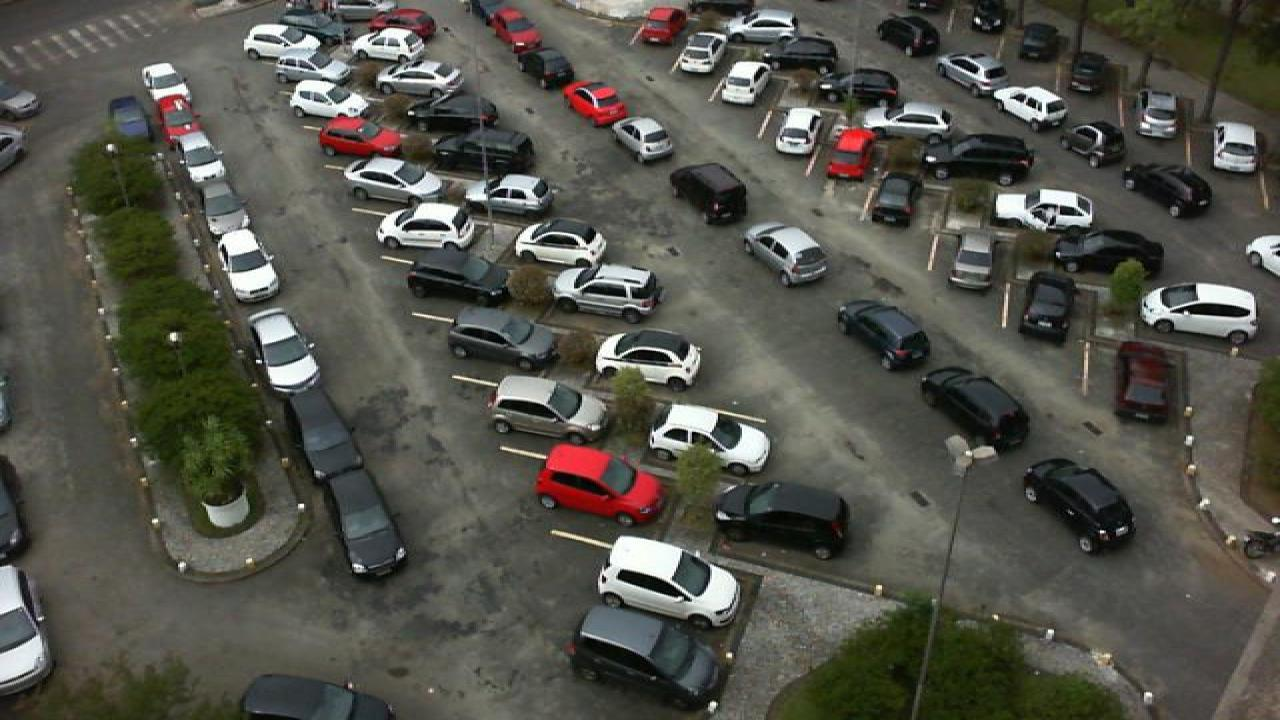Car: (568, 605, 726, 711), (594, 536, 742, 628), (1020, 456, 1138, 556), (714, 480, 852, 562), (534, 444, 666, 526), (316, 470, 408, 578), (240, 674, 456, 720), (918, 367, 1032, 453), (642, 403, 774, 477), (486, 373, 610, 441), (442, 304, 560, 374), (280, 388, 364, 486), (1138, 282, 1260, 346), (0, 562, 54, 698), (592, 328, 704, 390), (402, 246, 514, 308), (244, 306, 322, 395), (836, 298, 932, 370), (738, 220, 832, 288), (554, 262, 662, 321), (422, 125, 536, 180), (920, 132, 1036, 184), (1052, 229, 1168, 279), (514, 216, 610, 274), (1114, 340, 1180, 423), (990, 187, 1098, 237), (372, 201, 476, 252), (668, 161, 750, 224), (342, 155, 446, 204), (1120, 163, 1212, 218), (216, 227, 282, 303), (1016, 270, 1078, 343), (402, 90, 498, 134), (862, 102, 954, 146), (948, 228, 1002, 295), (316, 118, 400, 159), (992, 86, 1070, 130), (1056, 119, 1126, 168), (372, 58, 462, 96), (480, 173, 554, 219), (290, 78, 368, 121), (936, 52, 1012, 96), (866, 172, 922, 230), (820, 125, 878, 181), (610, 115, 676, 164), (562, 81, 632, 127), (172, 126, 230, 180), (198, 175, 252, 233), (1206, 120, 1262, 174), (348, 26, 426, 63), (242, 22, 322, 57), (876, 14, 942, 56), (766, 36, 840, 73), (272, 50, 352, 84), (718, 60, 776, 106), (520, 46, 576, 91), (1134, 89, 1184, 139), (772, 107, 824, 154), (1064, 50, 1116, 96), (482, 6, 540, 47), (726, 7, 798, 40), (820, 63, 884, 100), (140, 62, 192, 105), (158, 92, 206, 138), (634, 6, 688, 46), (674, 32, 726, 73), (368, 6, 436, 37), (1018, 20, 1068, 62), (970, 0, 1016, 33)
